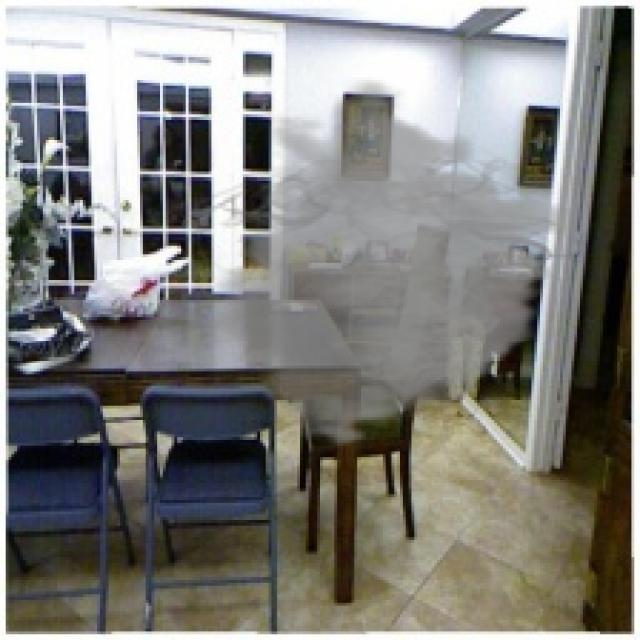Smoke: (174, 77, 592, 449)
